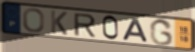0: (101, 15, 119, 41)
A: (121, 17, 150, 44)
G: (149, 18, 174, 47)
K: (50, 9, 69, 36)
O: (22, 7, 45, 33)
R: (72, 13, 97, 38)
